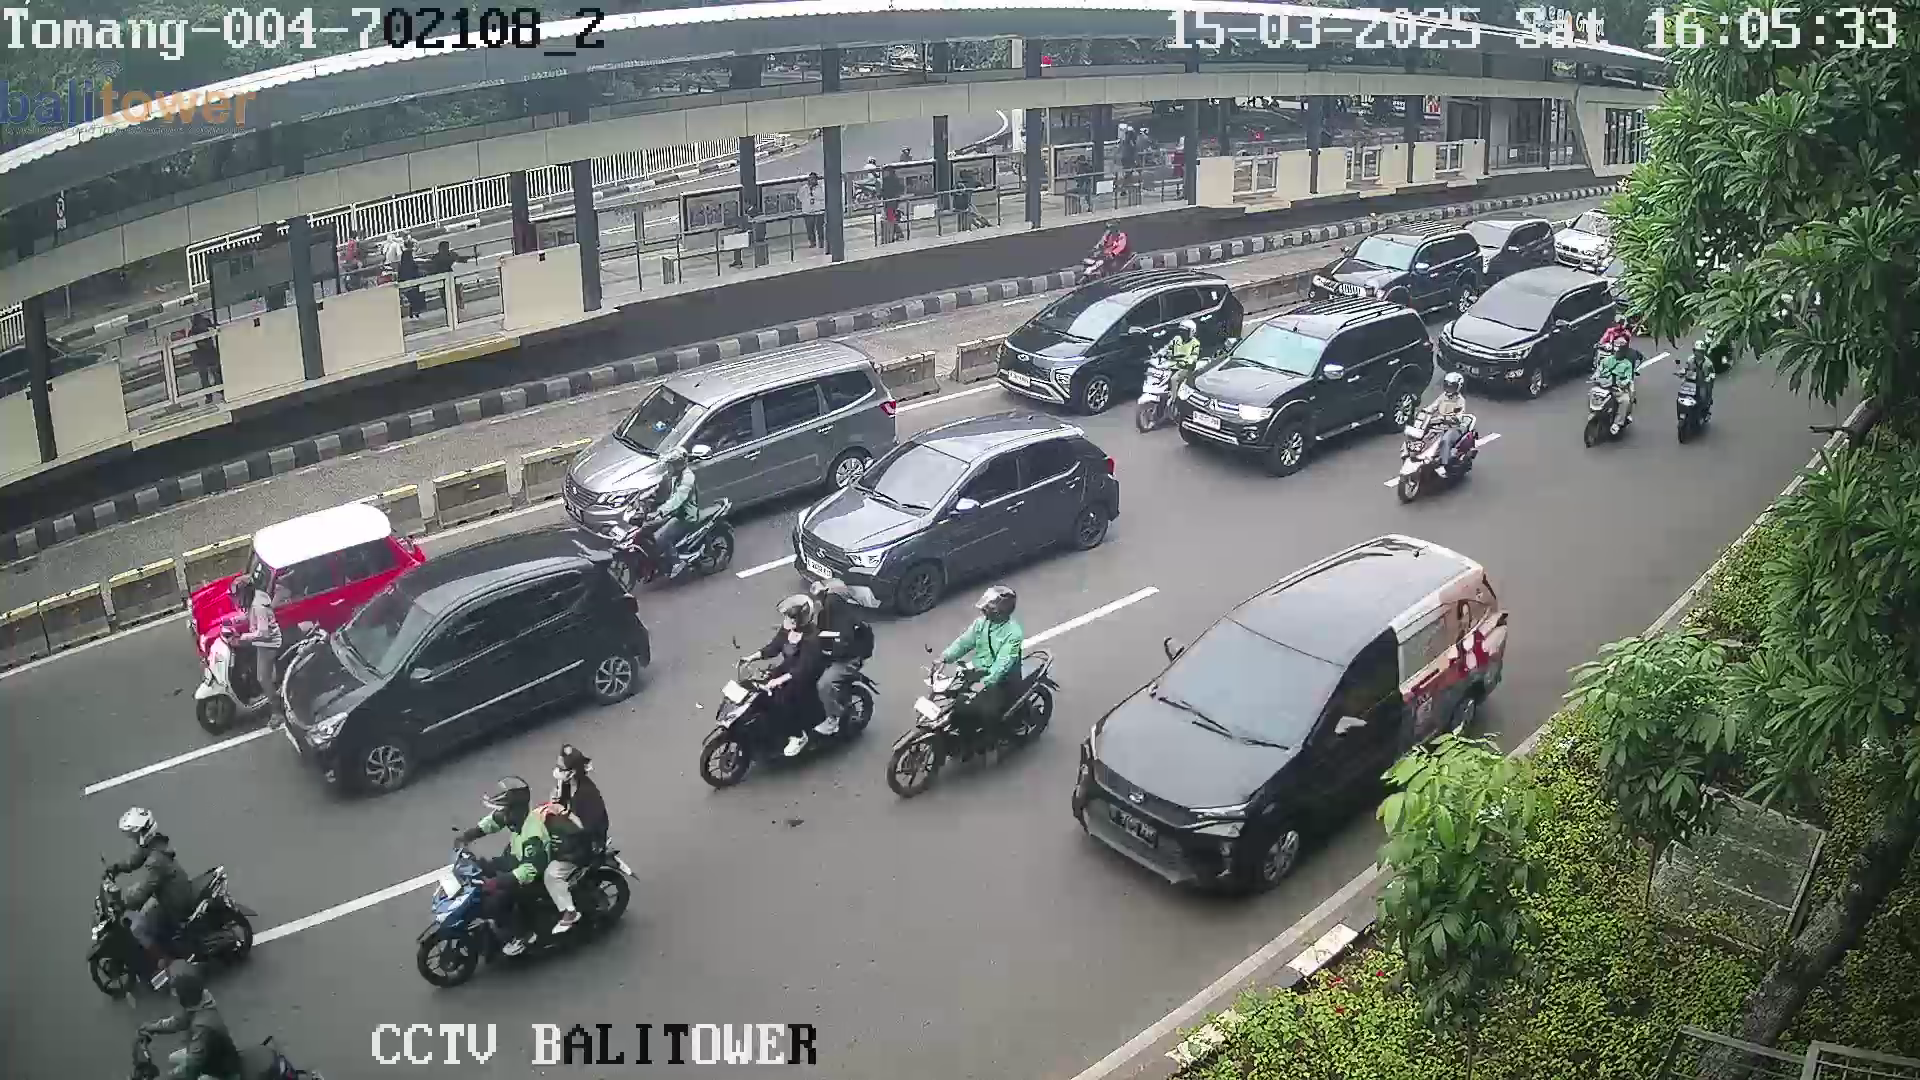half-face helmet: (143, 955, 215, 1020), (478, 778, 535, 833), (108, 796, 168, 851), (817, 567, 855, 624), (978, 582, 1025, 627), (774, 594, 814, 643), (655, 443, 690, 490), (225, 575, 261, 610), (1168, 316, 1198, 349), (1612, 337, 1637, 371), (1439, 371, 1466, 398)
no helmet: (551, 739, 596, 790)
